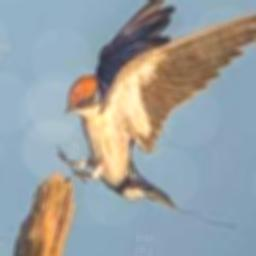Swallow: (56, 0, 256, 228)
